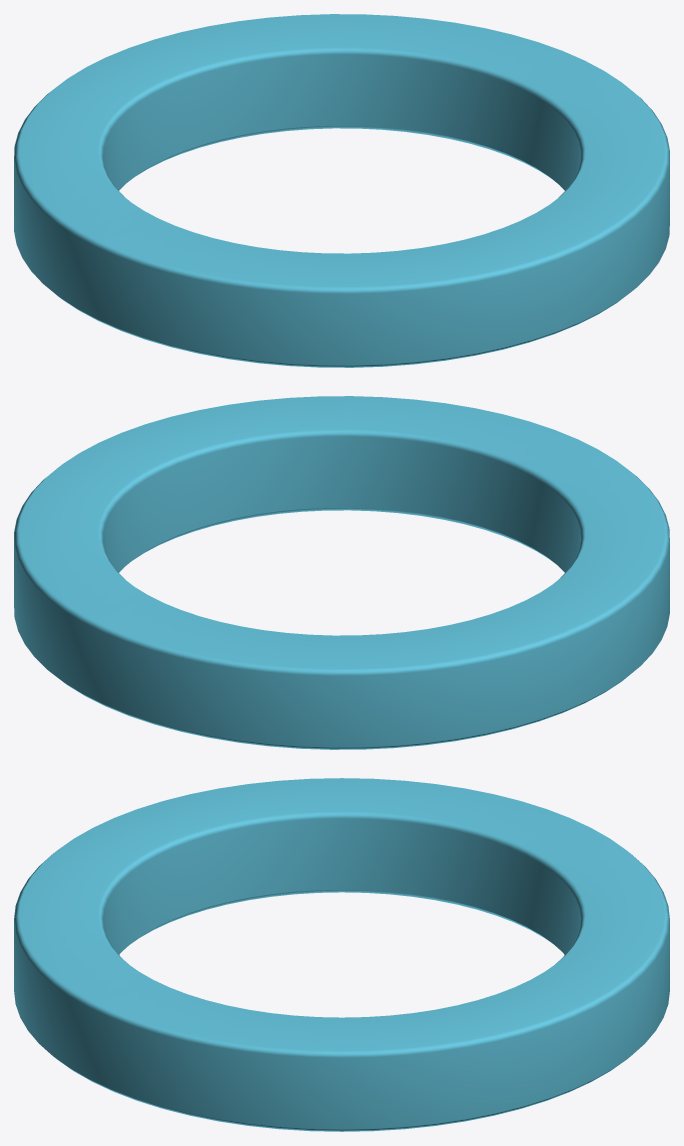
3 views of the same model, one above another, from view 1: azimuth 30°, elevation 25°; view 2: azimuth 150°, elevation 25°; view 3: azimuth 270°, elevation 25° (orthographic).
Visible parts, largest first — view 1: seal_body; view 2: seal_body; view 3: seal_body.
Boxes of the visible parts, box(x1,y1,x2,y2) form: seal_body: box(14, 14, 669, 367); seal_body: box(14, 396, 669, 749); seal_body: box(14, 778, 669, 1131).
Bounding box in the file's own units: 0.0698 × 0.00952 × 0.0698.
